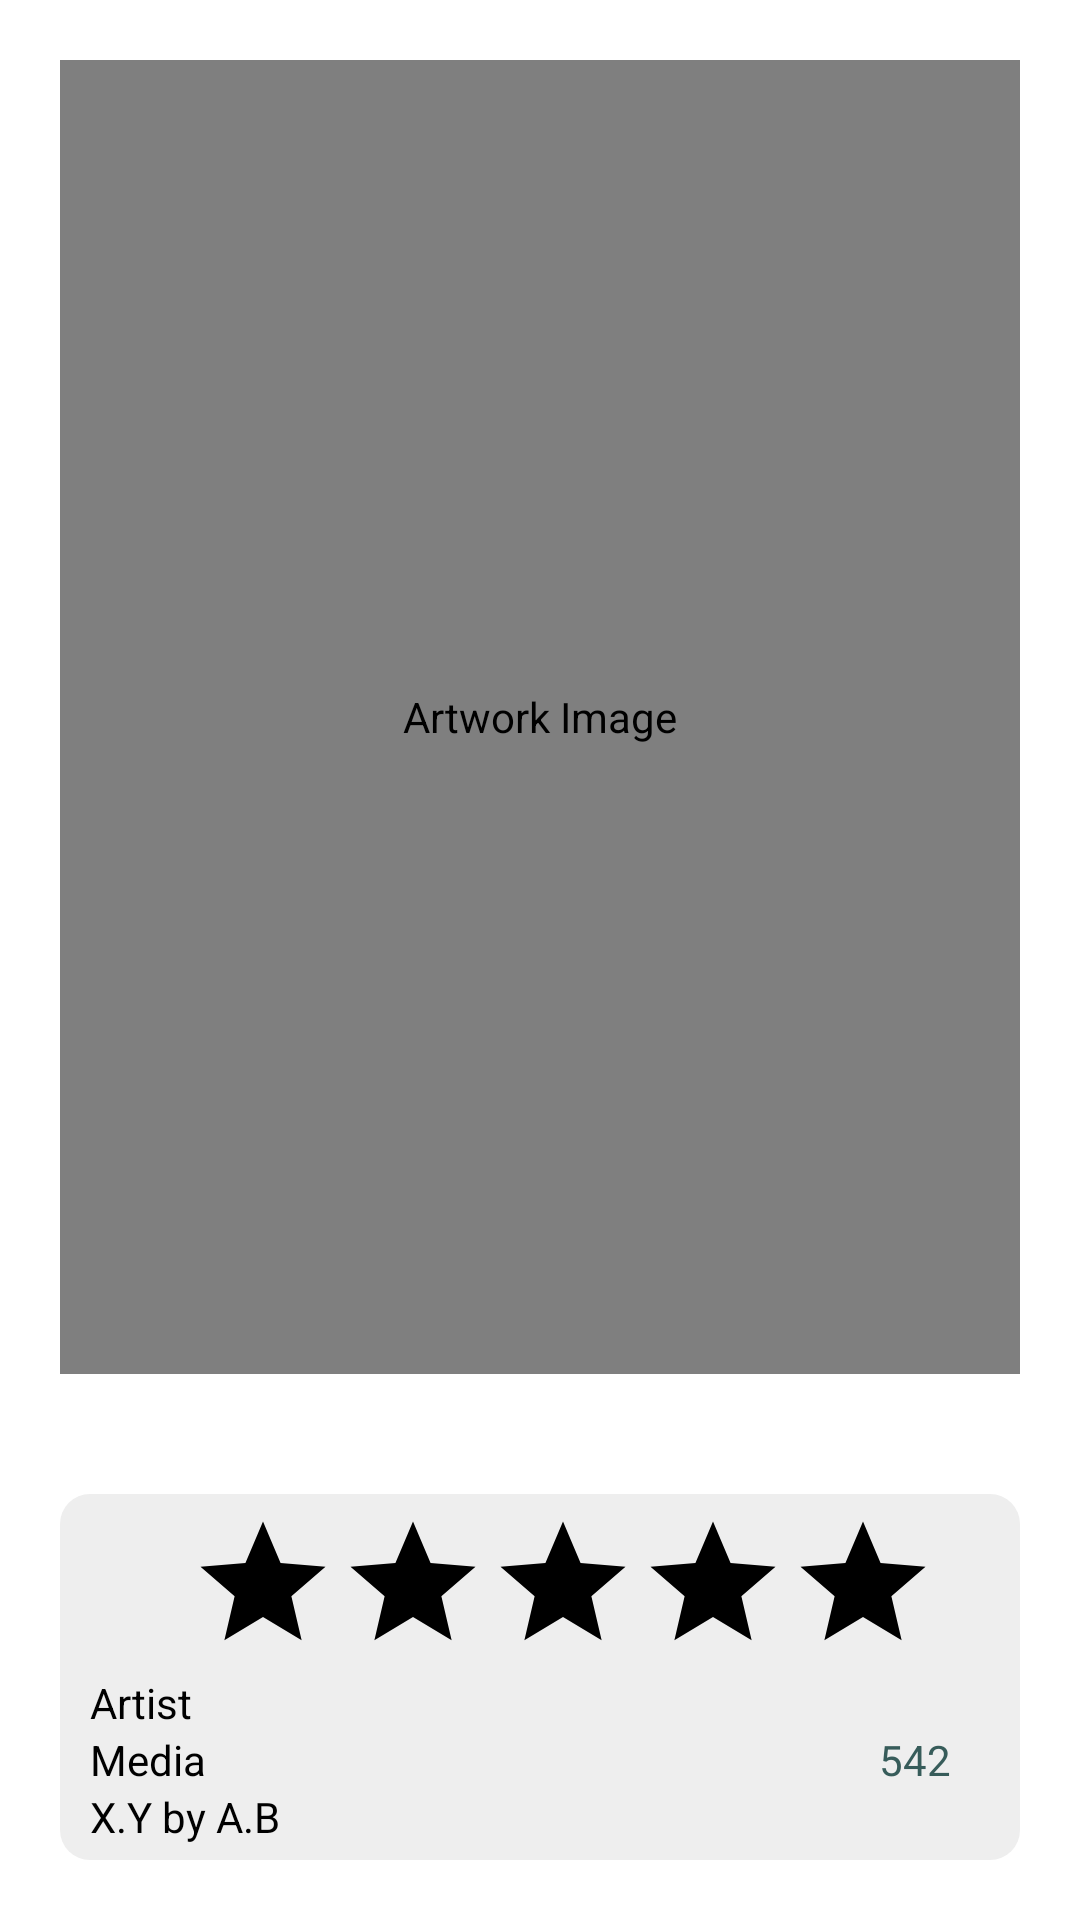

Named icons in this screenshot (1080x1920) and their centers, (x=x, y=y):
Five Star Rating: (x=863, y=1581)
Four Star Rating: (x=713, y=1581)
One Star Rating: (x=263, y=1581)
Three Star Rating: (x=563, y=1581)
Two Star Rating: (x=413, y=1581)
